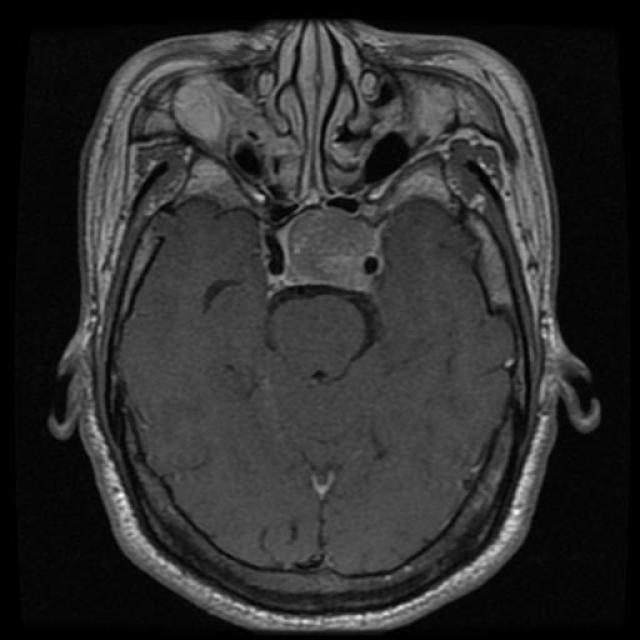pituitary: (255, 186, 408, 320)
